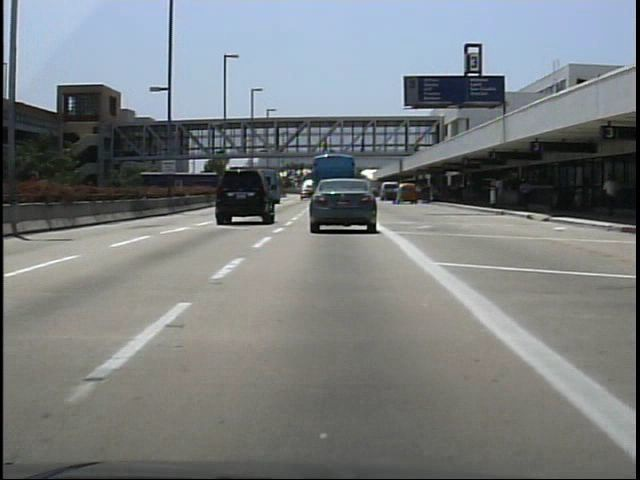person: (598, 169, 620, 220), (516, 174, 535, 215), (419, 179, 435, 207), (393, 180, 409, 207), (357, 136, 369, 158), (319, 134, 332, 154)
